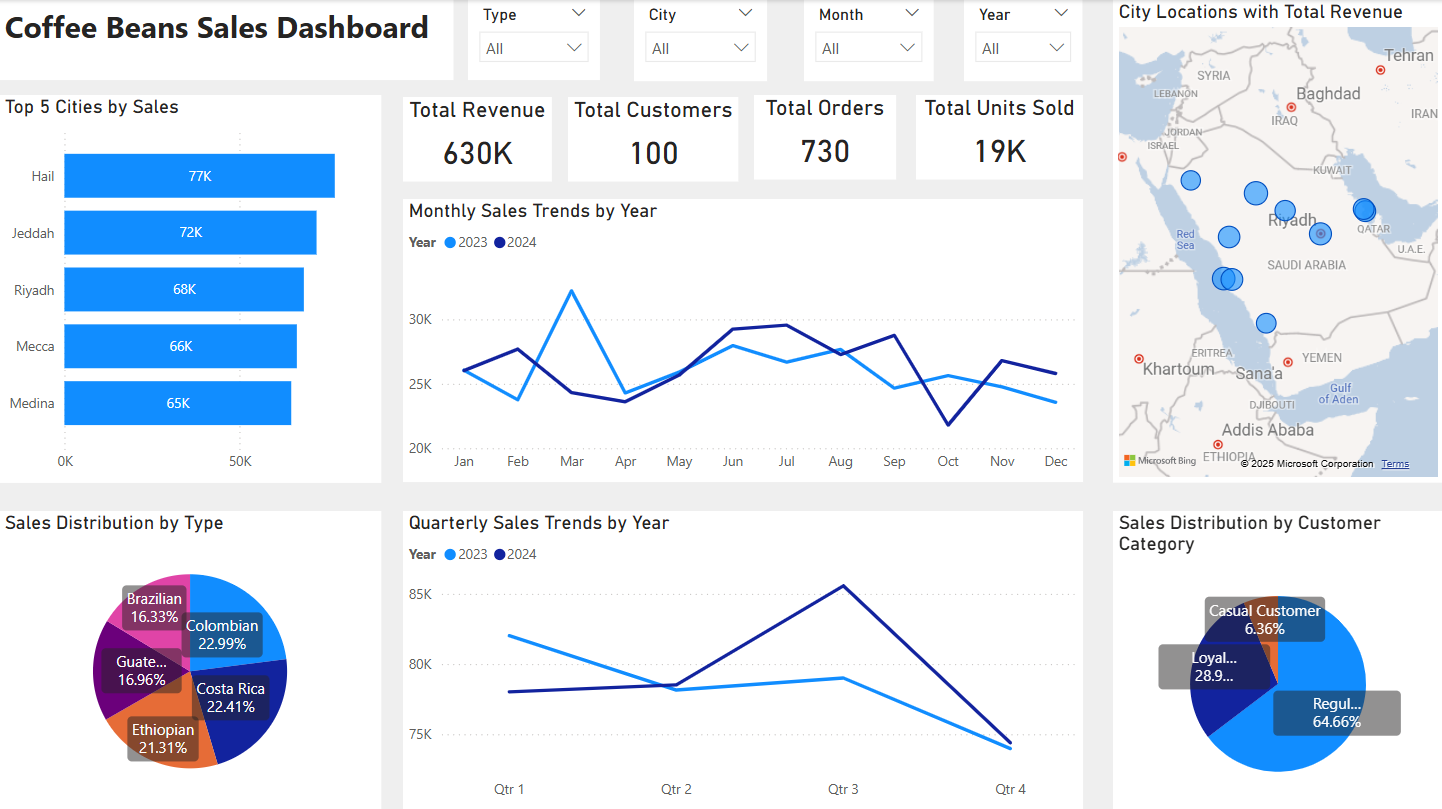

The page's visual inventory and layout, read from the dashboard file:
{"tool":"powerbi","page":{"name":"Sales Overview","canvas":[1280,720],"ordinal":0},"visuals":[{"type":"card","title":"Total Revenue","fields":{"Values":["DatasetForCoffeeSales2.Total Revenue"]},"box":[357.9,85.9,132,74.8],"z":0},{"type":"card","title":"Total Units Sold","fields":{"Values":["DatasetForCoffeeSales2.Total Units Sold"]},"box":[823.9,84.3,147.9,74.8],"z":1000},{"type":"card","title":"Total Customers","fields":{"Values":["DatasetForCoffeeSales2.Number Of Customers"]},"box":[513.8,85.9,151.1,74.8],"z":2000},{"type":"map","title":"City Locations with Total Revenue","fields":{"Size":["DatasetForCoffeeSales2.Total Revenue"],"Category":["saudi_cities_geocoding.City"]},"box":[987.8,0,292.7,427.9],"z":3000},{"type":"pieChart","title":"Sales Distribution by Type","fields":{"Y":["CoffeeSalesFact.Total Revenue"],"Category":["DatasetForCoffeeSales2.Product"]},"box":[0,453.3,338.8,265.6],"z":4000},{"type":"slicer","fields":{"Values":["DatasetForCoffeeSales2.Month"]},"box":[734.9,0,114.5,71.6],"z":5000},{"type":"slicer","fields":{"Values":["DatasetForCoffeeSales2.Year"]},"box":[866.9,0,105,71.6],"z":6000},{"type":"card","title":"Total Orders","fields":{"Values":["DatasetForCoffeeSales2.Total Orders"]},"box":[682.4,84.3,125.7,74.8],"z":7000},{"type":"pieChart","title":"Sales Distribution by Customer Category","fields":{"Y":["DatasetForCoffeeSales2.Total Revenue"],"Category":["DatasetForCoffeeSales2.Customer_Category"]},"box":[987.8,453.3,292.7,267.2],"z":8000},{"type":"lineChart","title":"Monthly Sales Trends by Year","fields":{"Y":["DatasetForCoffeeSales2.Total Revenue"],"Category":["CoffeeSalesFact.Month"],"Series":["DatasetForCoffeeSales2.Year"]},"box":[357.9,176.6,614,251.3],"z":9000},{"type":"lineChart","title":"Quarterly Sales Trends by Year","fields":{"Y":["DatasetForCoffeeSales2.Total Revenue"],"Category":["DatasetForCoffeeSales2.Date Copy.Variation.Date Hierarchy.Quarter"],"Series":["DatasetForCoffeeSales2.Year"]},"box":[357.9,453.3,614,265.6],"z":10000},{"type":"slicer","fields":{"Values":["DatasetForCoffeeSales2.Product"]},"box":[474,0,116.1,71.6],"z":11000},{"type":"clusteredBarChart","title":"Top 5 Cities by Sales","fields":{"Category":["DatasetForCoffeeSales2.City"],"Y":["DatasetForCoffeeSales2.Total Revenue"]},"box":[0,84.3,338.8,343.6],"z":12000},{"type":"textbox","box":[0,0,462.9,71.6],"z":13000},{"type":"slicer","fields":{"Values":["saudi_cities_geocoding.City"]},"box":[606,0,117.7,71.6],"z":14000}]}

Visuals, with their boxes in screenshot pixels (x1, y1, x2, y2), scaled from the page's 1280x720 canvas onto the 1442x809 screenshot:
"Total Revenue" card: rect(403, 97, 552, 181)
"Total Units Sold" card: rect(928, 95, 1095, 179)
"Total Customers" card: rect(579, 97, 749, 181)
"City Locations with Total Revenue" map: rect(1113, 0, 1441, 481)
"Sales Distribution by Type" pieChart: rect(0, 509, 382, 808)
slicer - DatasetForCoffeeSales2.Month: rect(828, 0, 957, 80)
slicer - DatasetForCoffeeSales2.Year: rect(977, 0, 1095, 80)
"Total Orders" card: rect(769, 95, 910, 179)
"Sales Distribution by Customer Category" pieChart: rect(1113, 509, 1441, 808)
"Monthly Sales Trends by Year" lineChart: rect(403, 198, 1095, 481)
"Quarterly Sales Trends by Year" lineChart: rect(403, 509, 1095, 808)
slicer - DatasetForCoffeeSales2.Product: rect(534, 0, 665, 80)
"Top 5 Cities by Sales" clusteredBarChart: rect(0, 95, 382, 481)
textbox: rect(0, 0, 521, 80)
slicer - saudi_cities_geocoding.City: rect(683, 0, 815, 80)
